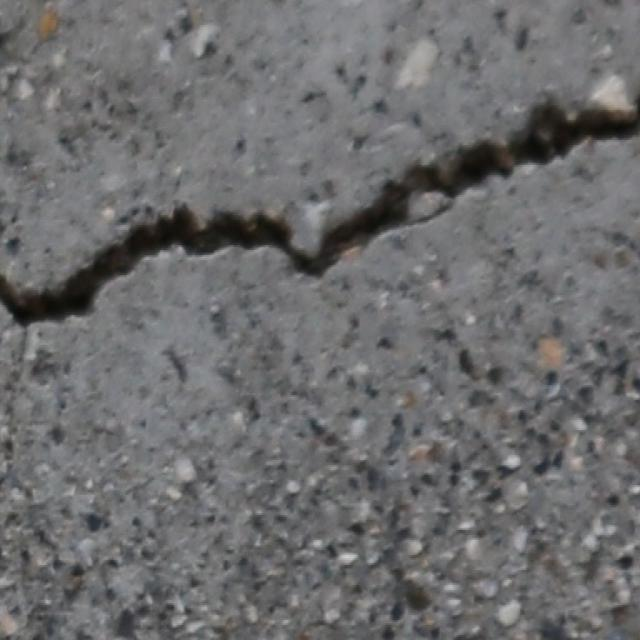Diagonal: (0, 87, 640, 336)
